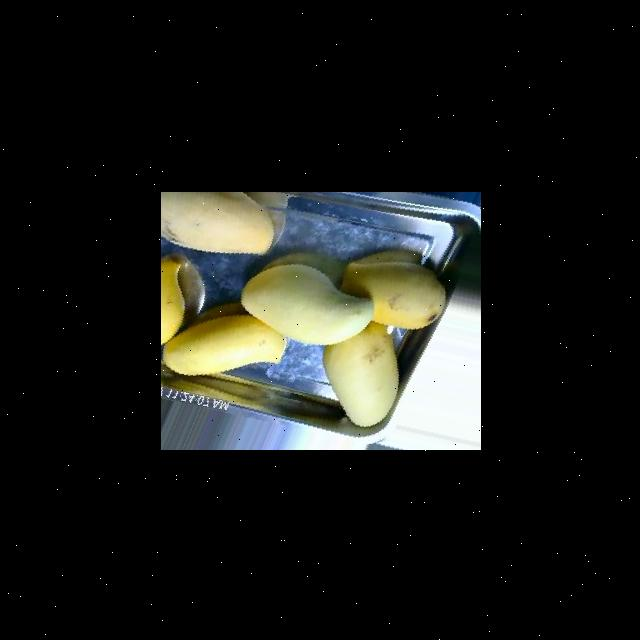Mango: (239, 263, 373, 345), (339, 250, 444, 330), (321, 322, 398, 427), (161, 314, 285, 376), (160, 192, 273, 255), (160, 257, 184, 347)
